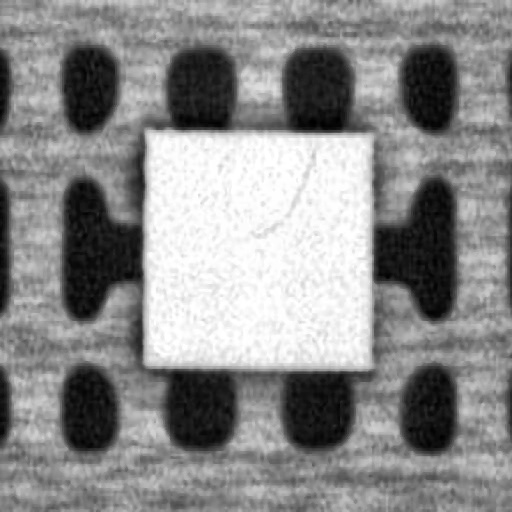DIE_CRACK: (246, 143, 322, 239)
